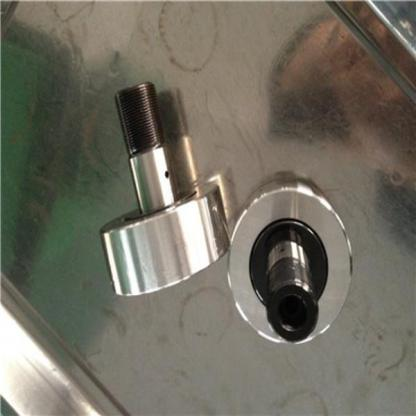FOD: (102, 78, 228, 304), (228, 175, 354, 357)
